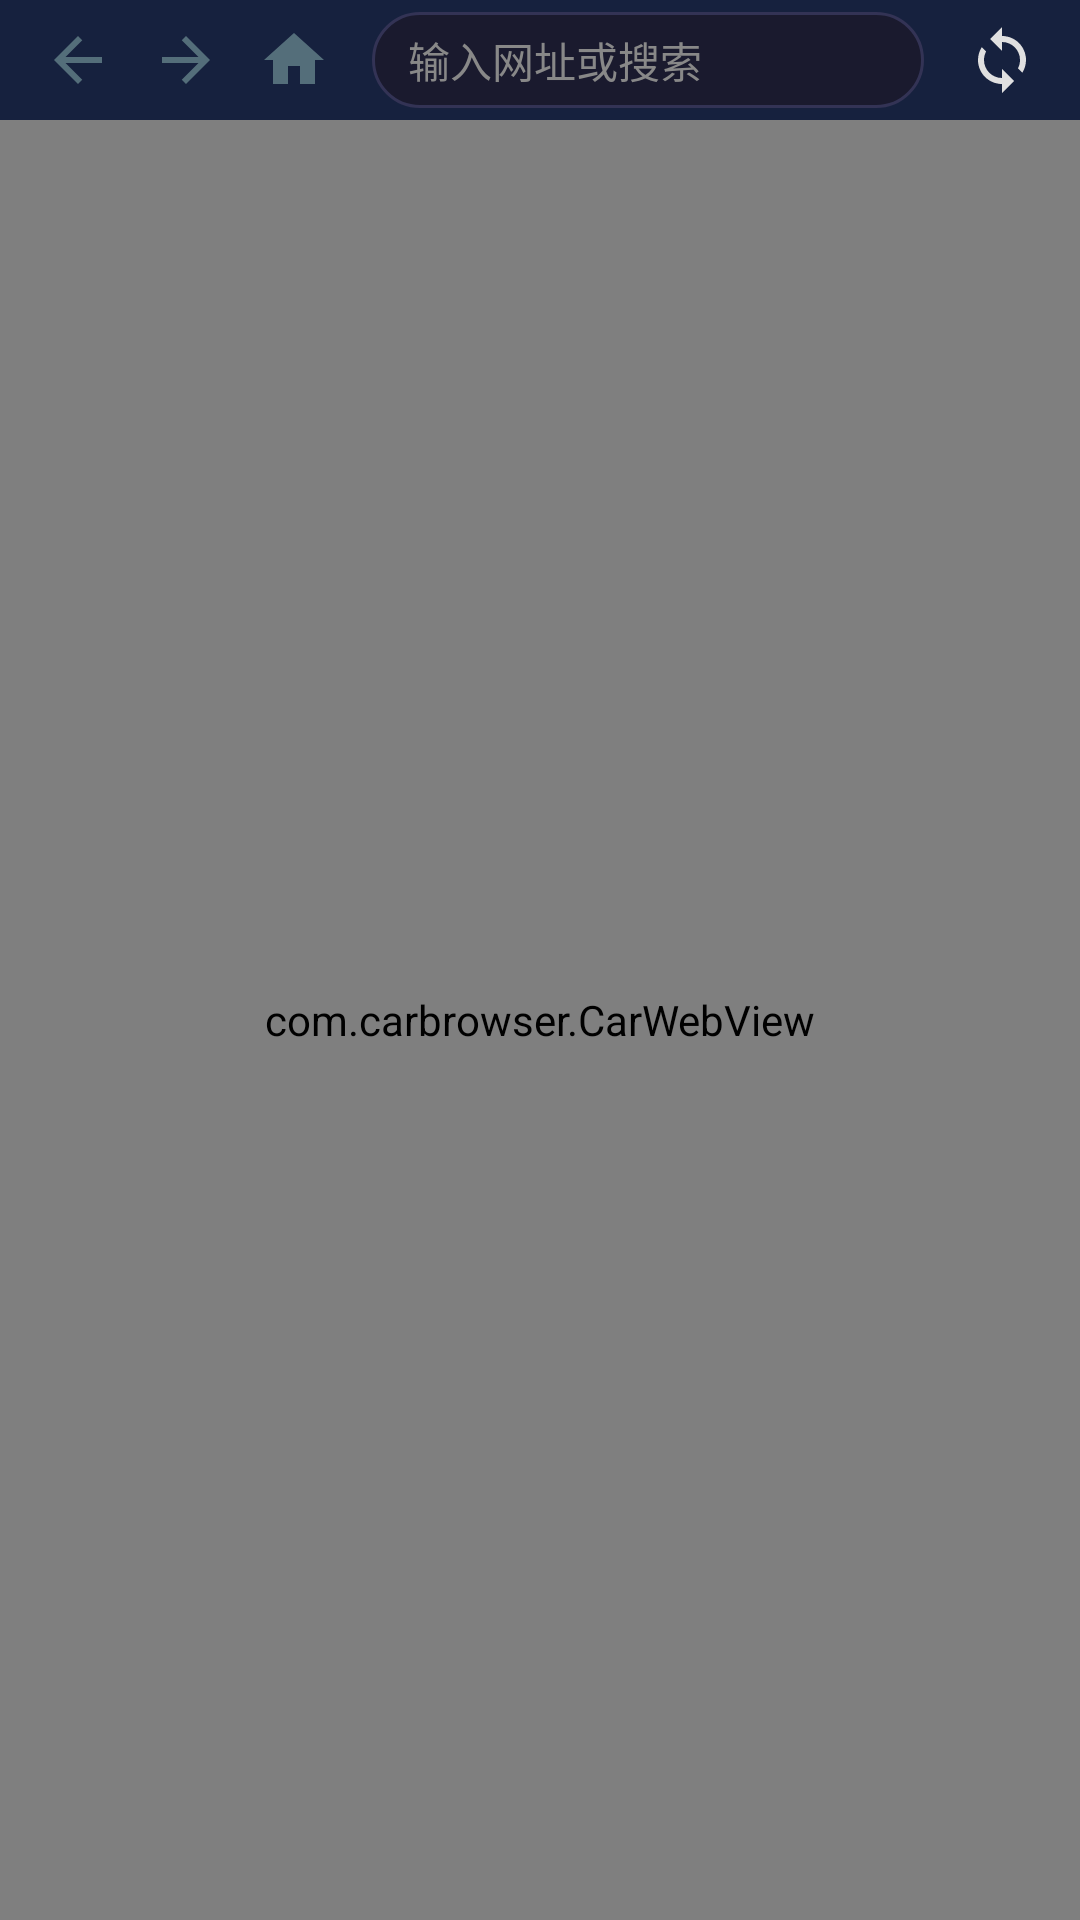

Screen size 1080px x 1920px. Icon name, then its box in pixels as (x1, y1, x2, y2):
主页: (264, 33, 324, 84)
刷新: (978, 27, 1026, 93)
前进: (162, 36, 210, 84)
后退: (54, 36, 102, 84)
